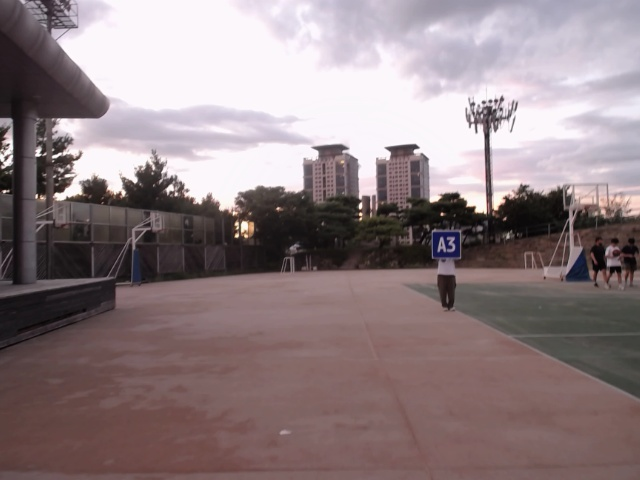delivery_a3: (431, 232, 461, 259)
